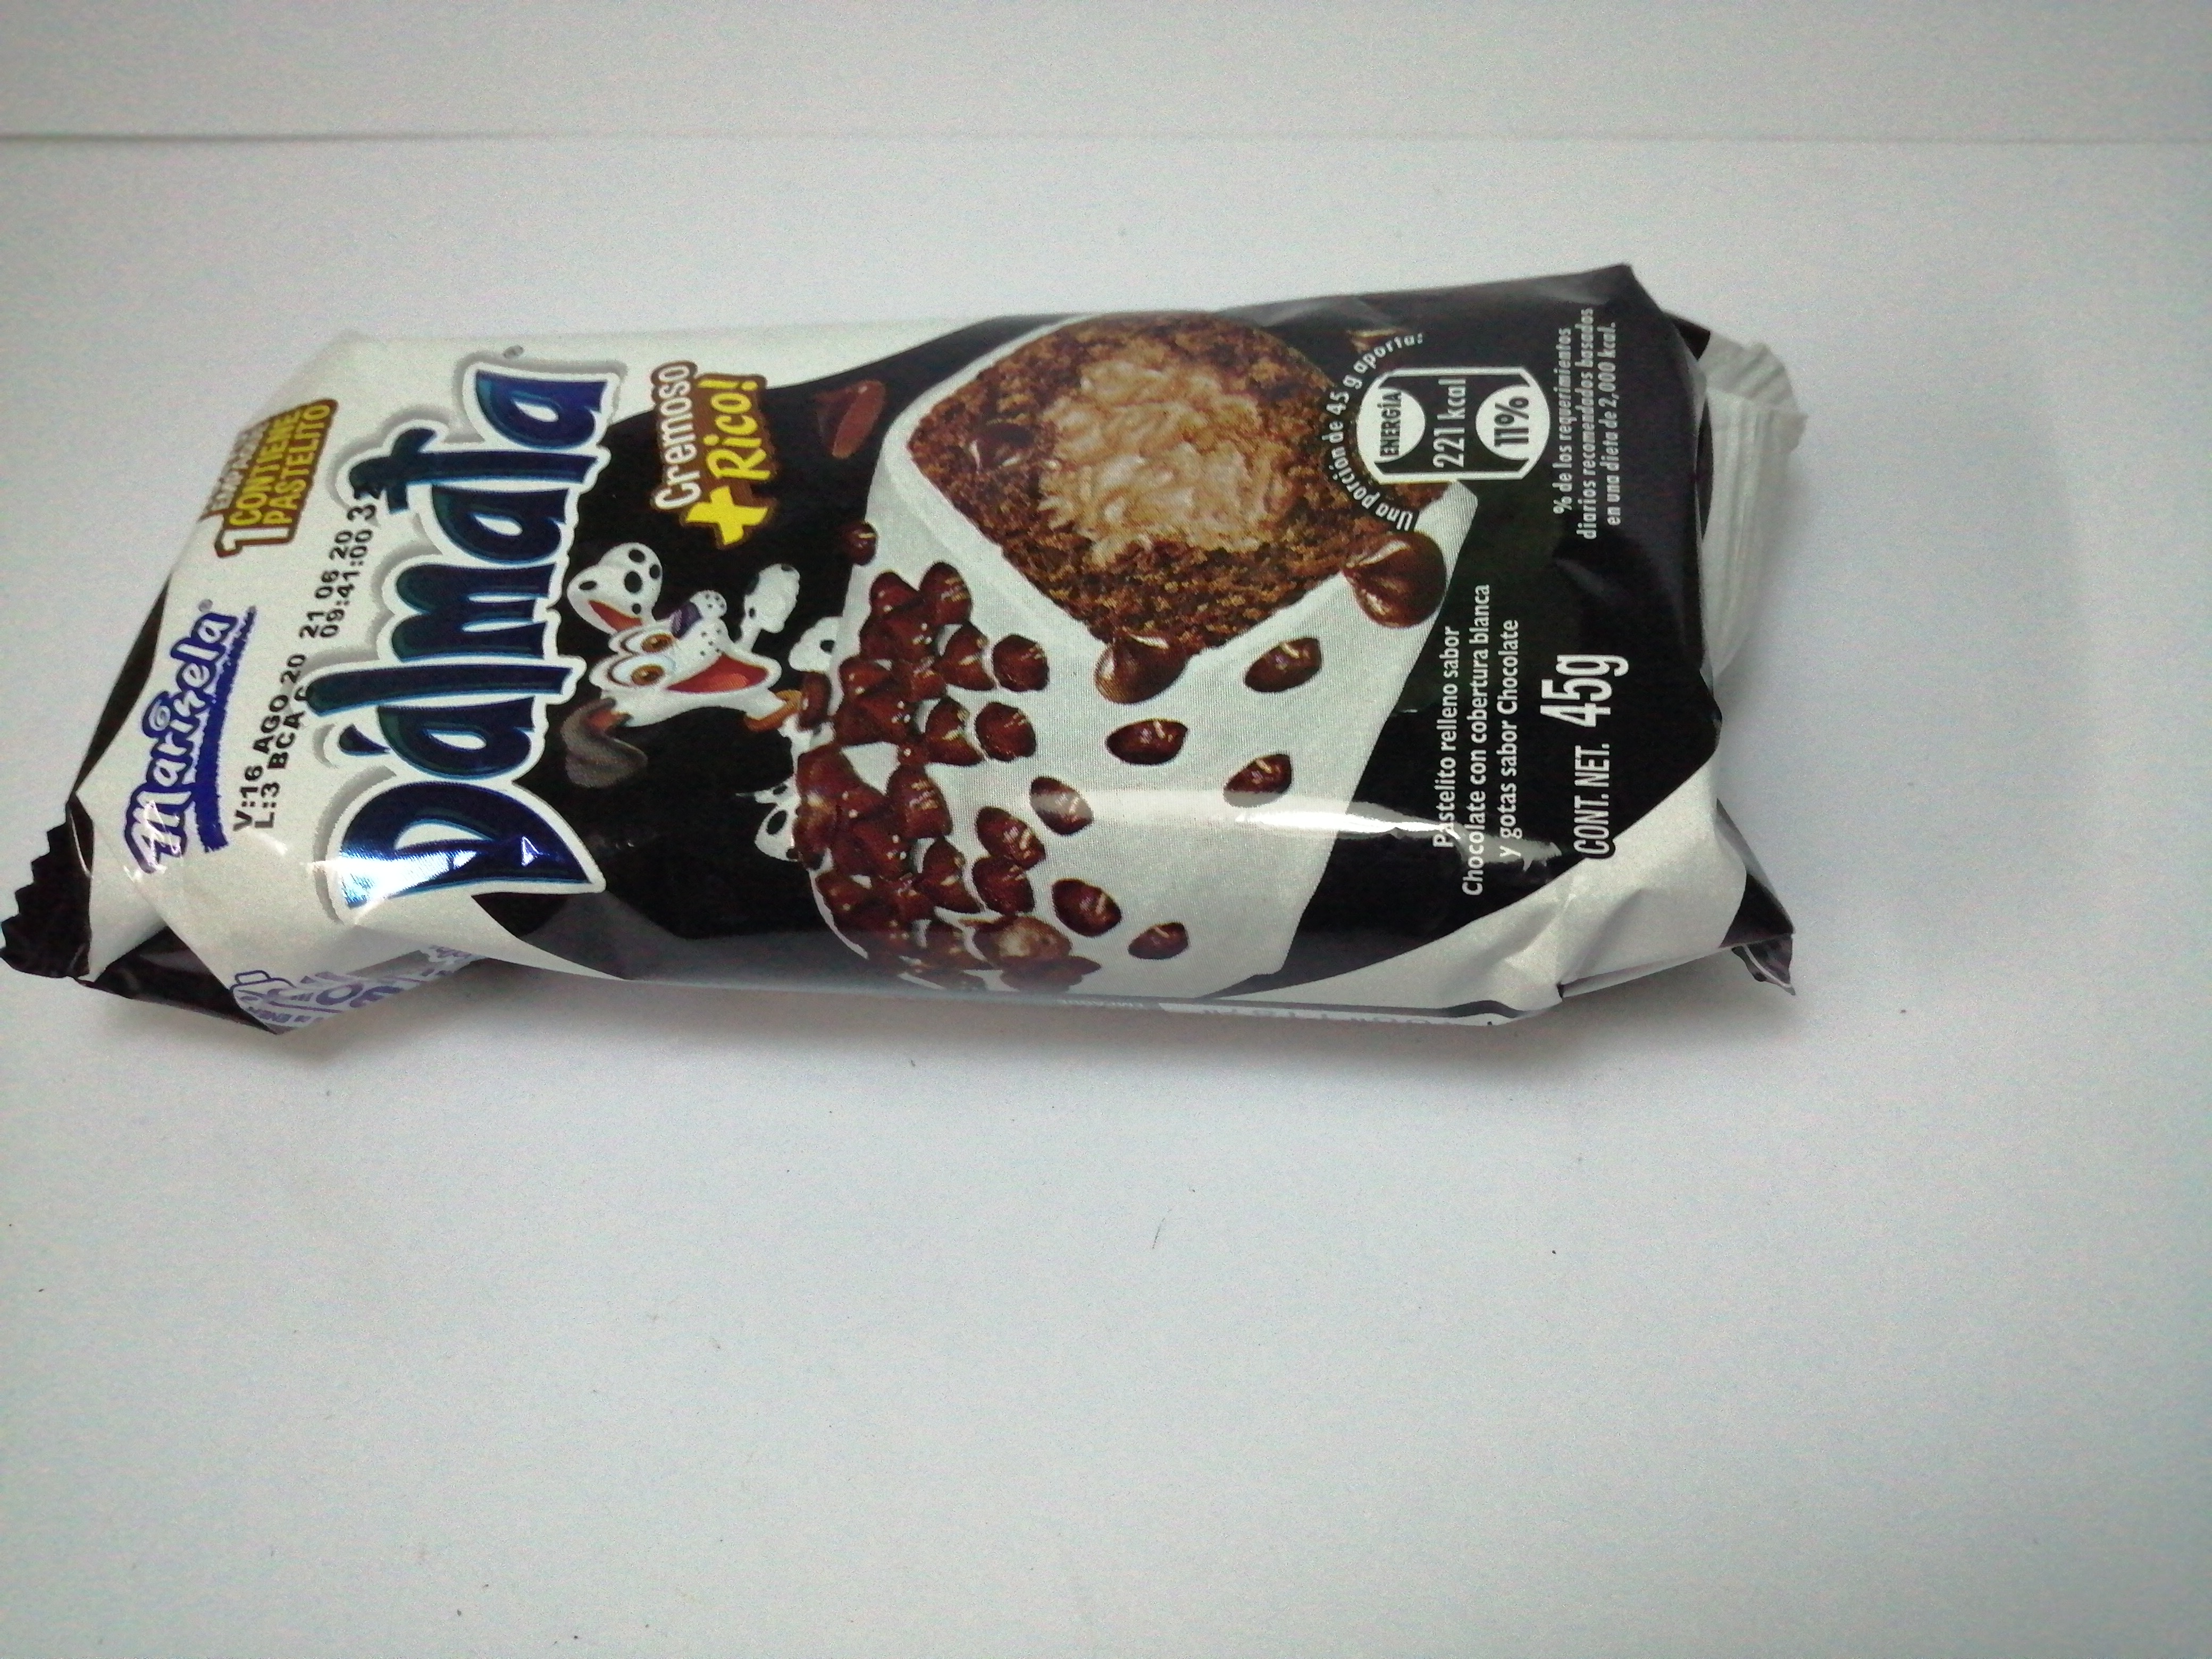dalmata: (2, 244, 1789, 1053)
